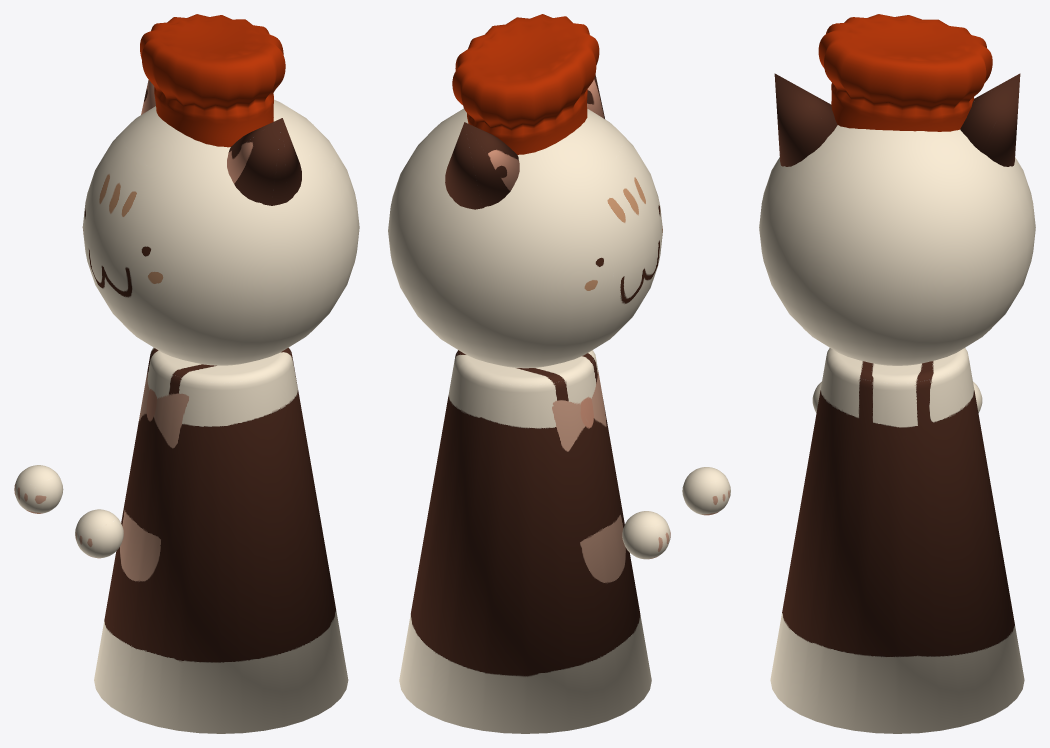
Rendered from cat-DDcdDJqo.glb.
3 views of the same model, side by side, from view 1: azimuth 30°, elevation 25°; view 2: azimuth 150°, elevation 25°; view 3: azimuth 270°, elevation 25° (orthographic).
Parts seen in each view (by area): view 1: cat, chefhat_1; view 2: cat, chefhat_1; view 3: cat, chefhat_1.
Boxes of the visible parts, <box> form: cat: <box>14,80,359,733</box>; chefhat_1: <box>140,14,285,147</box>; cat: <box>388,74,730,733</box>; chefhat_1: <box>452,14,599,154</box>; cat: <box>759,73,1035,733</box>; chefhat_1: <box>818,14,992,131</box>.
Size of the model in its own units: 1.82 by 3.83 by 1.49.
5 materials, 4 textured.
